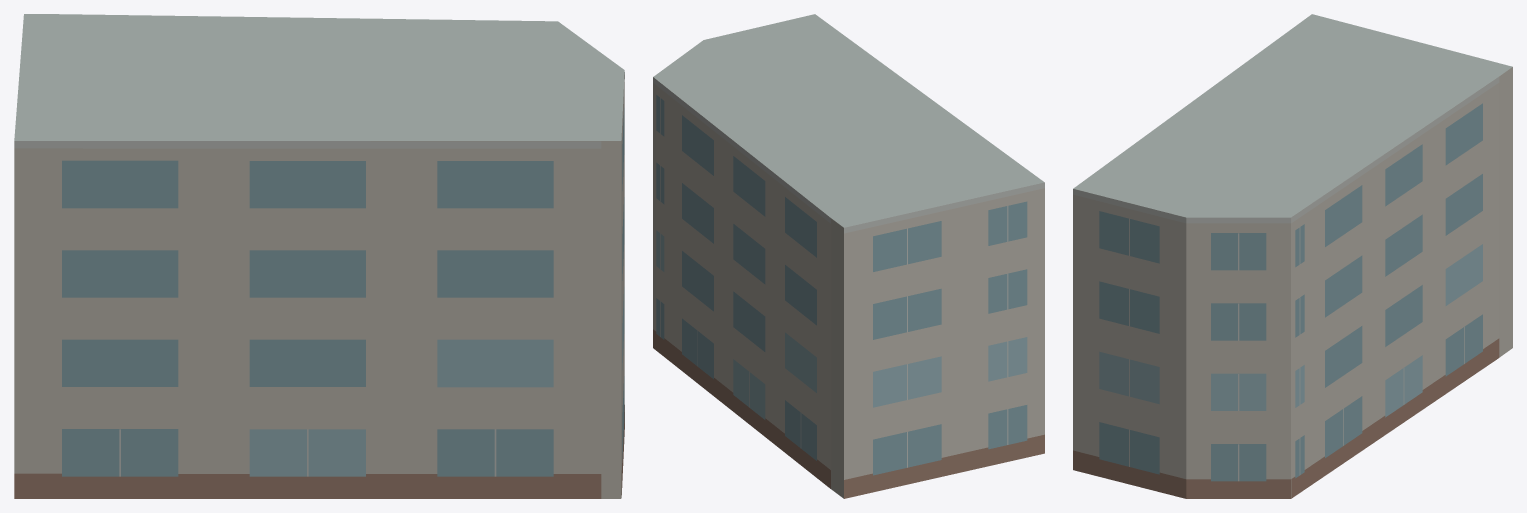
The model's file is survey-upis-32776675.glb.
3 views of the same model, side by side, from view 1: azimuth 30°, elevation 25°; view 2: azimuth 150°, elevation 25°; view 3: azimuth 270°, elevation 25° (orthographic). The views are drawn at different scales.
Visible parts, largest first — view 1: survey-upis-32776675.tmp; view 2: survey-upis-32776675.tmp; view 3: survey-upis-32776675.tmp.
Part boxes in pixels (box(x1,y1,x2,y2)): survey-upis-32776675.tmp: box(14, 14, 624, 498); survey-upis-32776675.tmp: box(653, 14, 1044, 498); survey-upis-32776675.tmp: box(1073, 14, 1512, 498).
Bounding box in the file's own units: 18.01 × 11.6 × 16.44.
